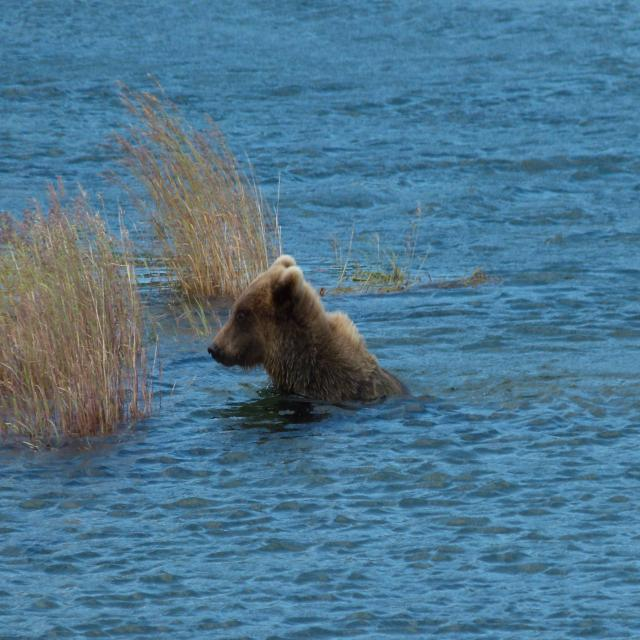bear face: (208, 252, 402, 405)
